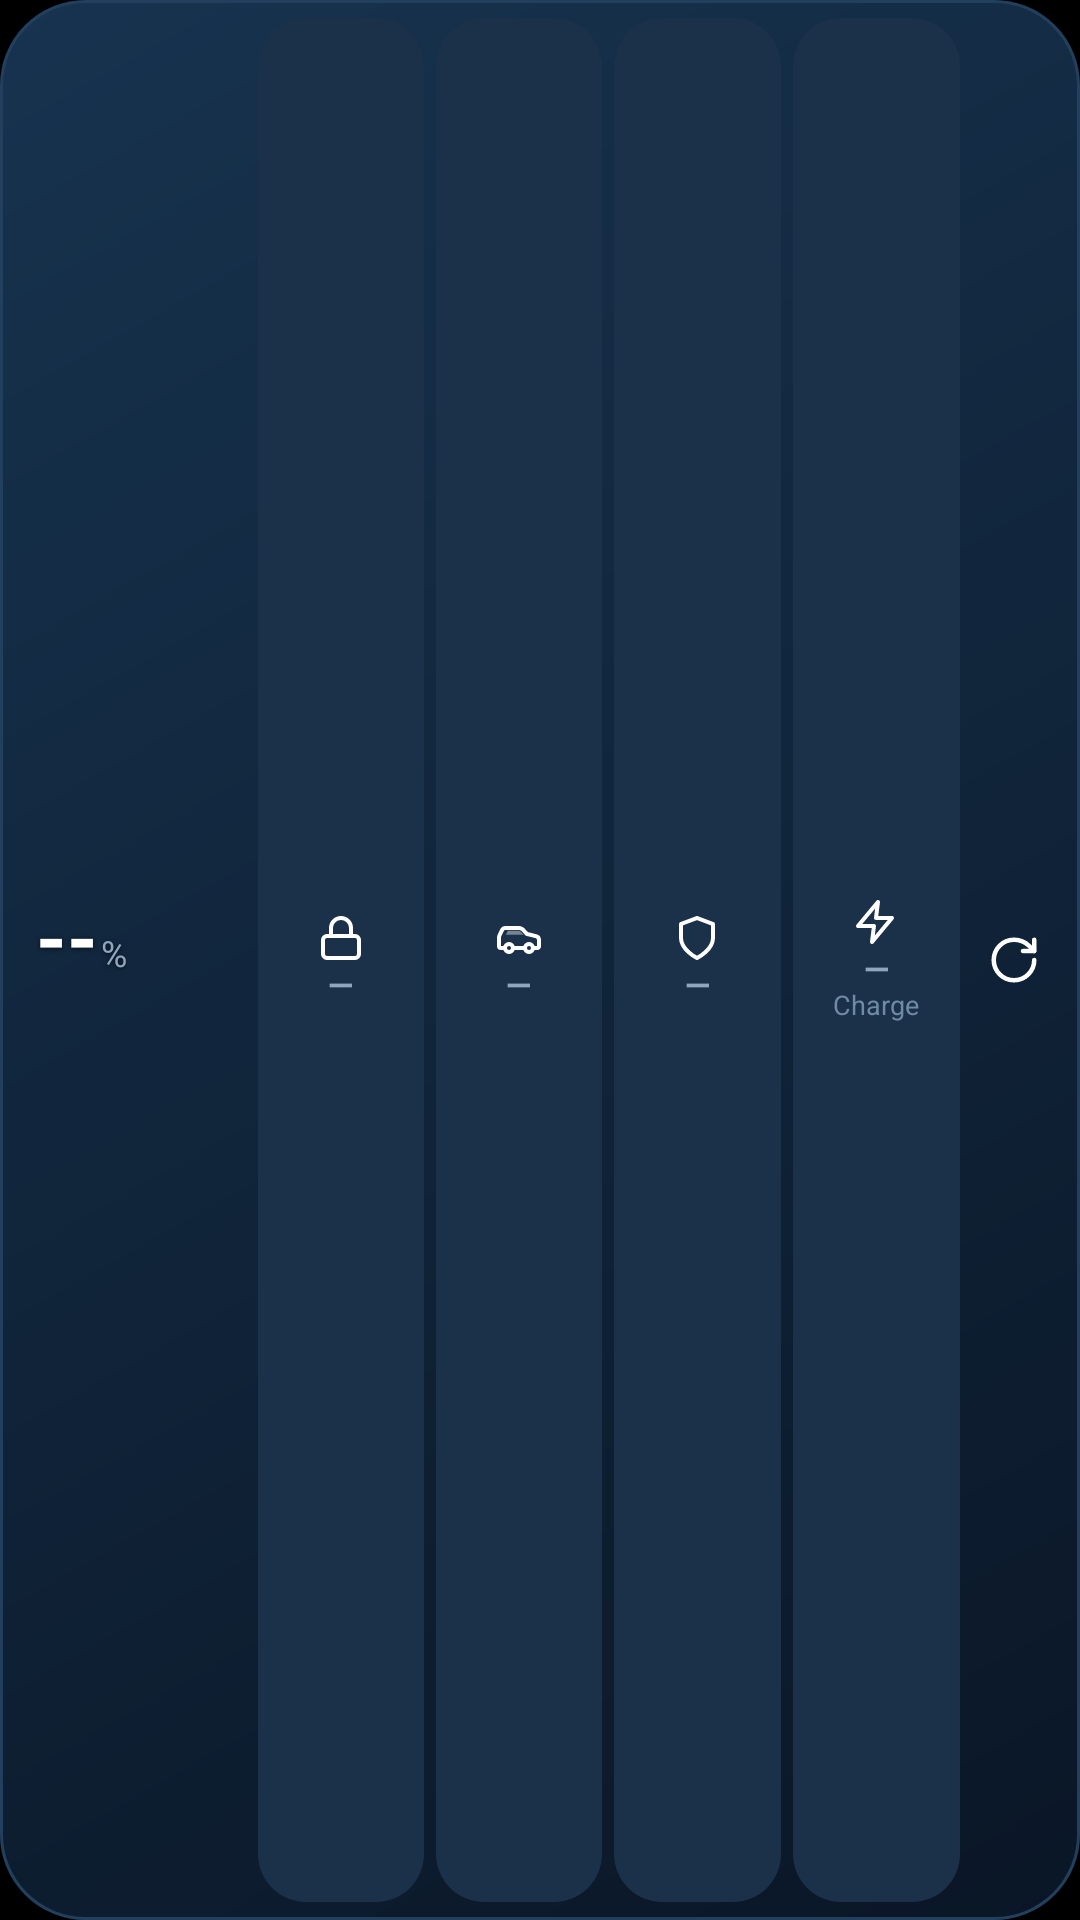

Named icons in this screenshot (1080 x 1920) and their bounding boxes, (x1, y1, x2, y2):
bolt: (856, 900, 894, 944)
lock: (321, 916, 361, 960)
shield: (679, 916, 715, 960)
